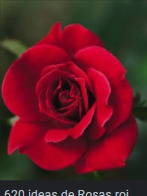RedRose: (1, 19, 147, 175)
